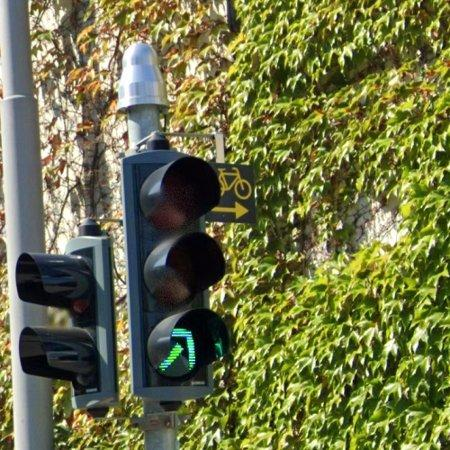traffic lights: (122, 131, 246, 445)
